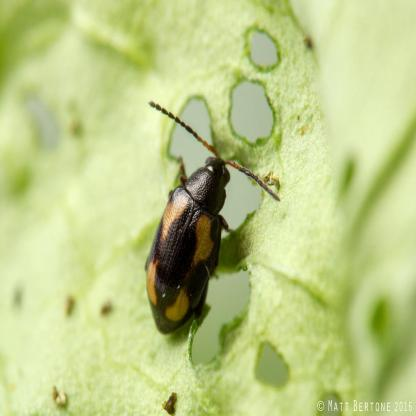beetle: (145, 92, 280, 344)
